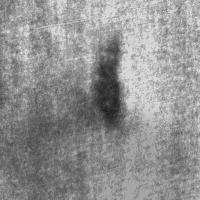patches: (41, 113, 197, 200), (6, 95, 132, 200), (21, 150, 113, 200), (89, 34, 122, 126)
